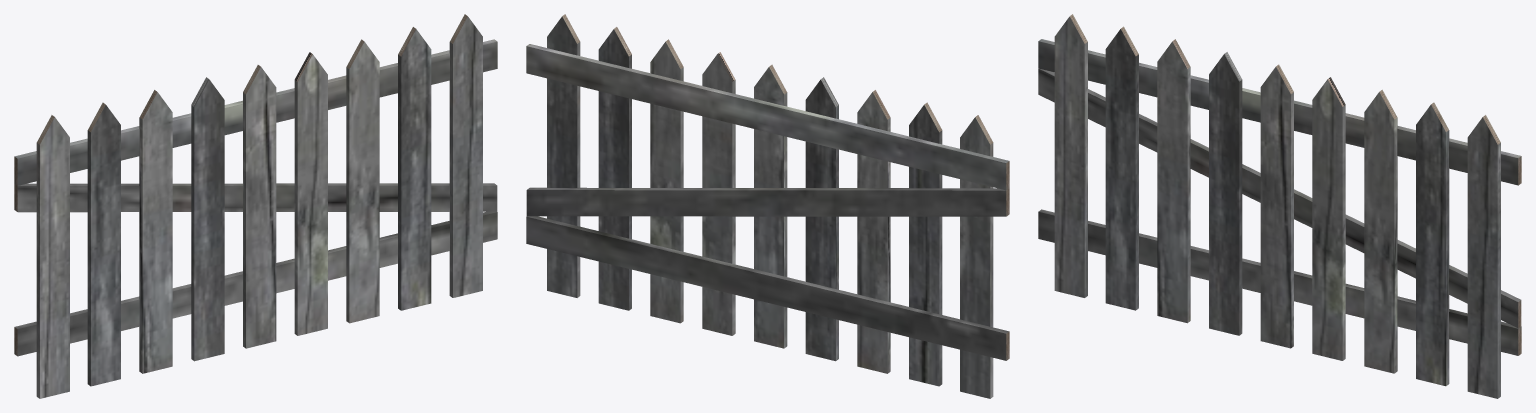
Rendered from fence-rail.lod0.glb.
The picture shows the model from 3 angles, left to right: view 1: azimuth 30°, elevation 25°; view 2: azimuth 150°, elevation 25°; view 3: azimuth 330°, elevation 25°; orthographic projection.
Parts seen in each view (by area): view 1: FenceStyle1Long_Gray_T_0; view 2: FenceStyle1Long_Gray_T_0; view 3: FenceStyle1Long_Gray_T_0.
Part boxes in pixels (x1,y1,x2,y2): FenceStyle1Long_Gray_T_0: [14, 14, 497, 398]; FenceStyle1Long_Gray_T_0: [526, 14, 1009, 398]; FenceStyle1Long_Gray_T_0: [1038, 14, 1521, 398].
Size of the model in its own units: 2.17 by 1.2 by 0.0487.
1 material, 1 textured.
